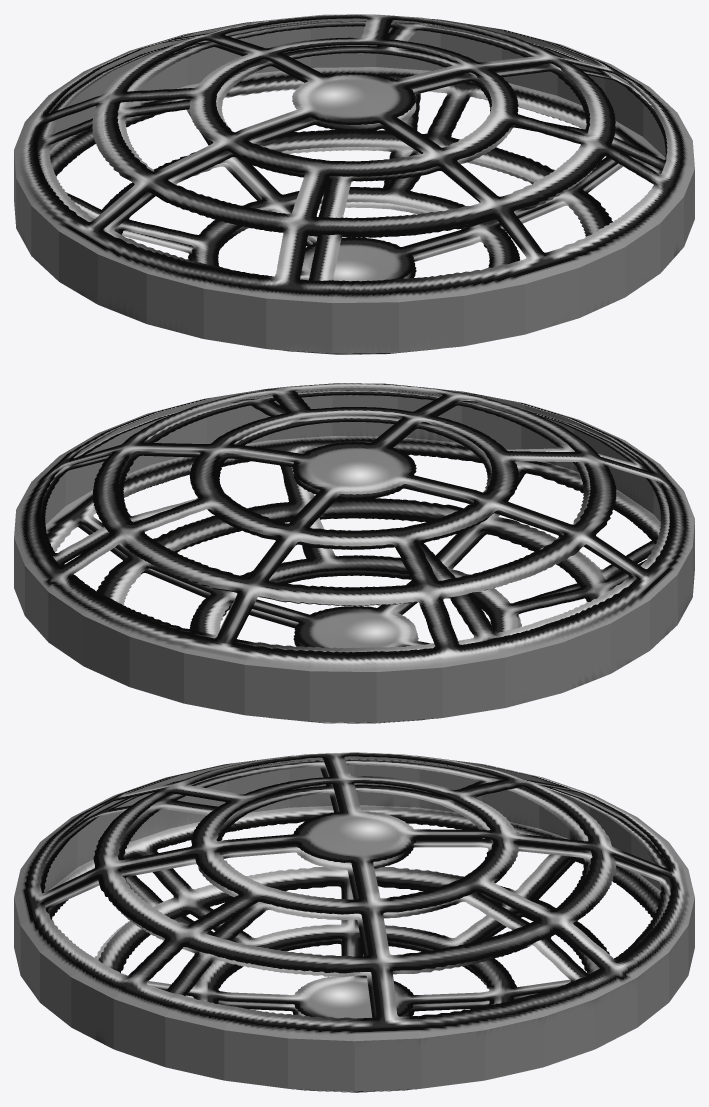
File: FanCell.fbx
3 views of the same model, one above another, from view 1: azimuth 30°, elevation 25°; view 2: azimuth 150°, elevation 25°; view 3: azimuth 270°, elevation 25° (orthographic).
Visible parts, largest first — view 1: Cube; view 2: Cube; view 3: Cube.
Part boxes in pixels (left/top/right/bottom): Cube: left=14, top=14, right=694, bottom=354; Cube: left=14, top=383, right=694, bottom=723; Cube: left=14, top=752, right=694, bottom=1092.
Size of the model in its own units: 2 by 0.5702 by 2.
